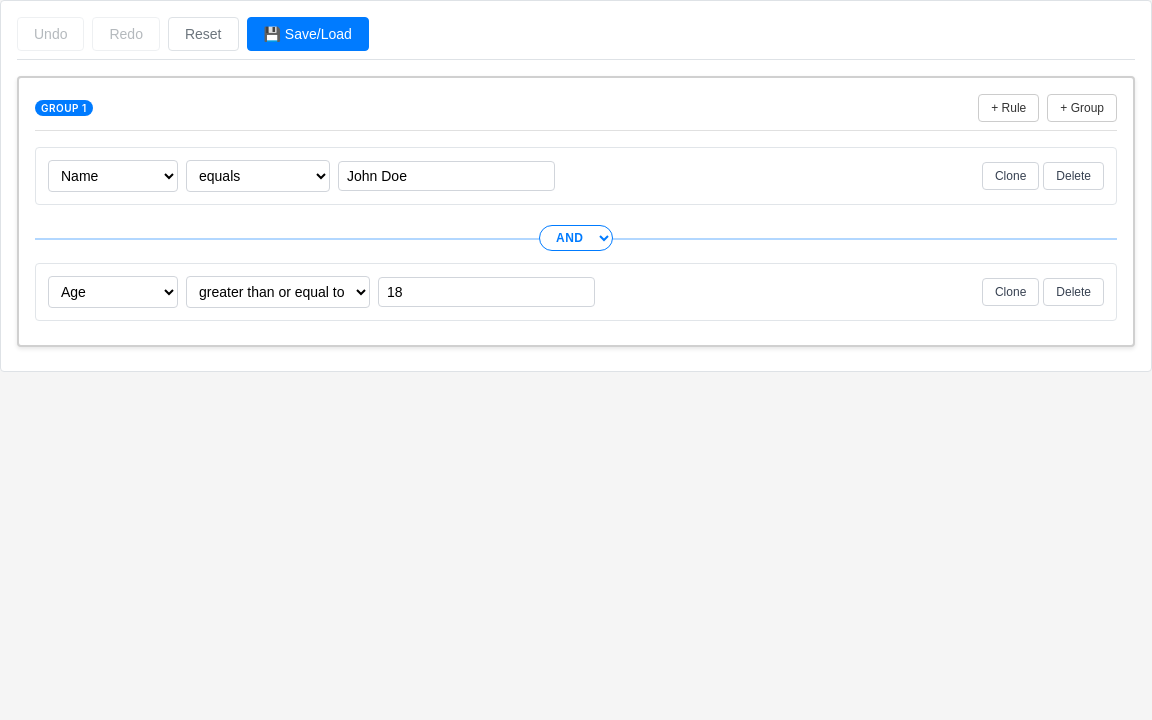
Test: RuleBuilder Integration Tests › Undo/Redo Functionality › handles undo/redo operations correctly
Expected: the button "Undo" is disabled, top-left (17, 17), bottom-right (84, 51)
Expected: the button "Redo" is disabled, top-left (92, 17), bottom-right (160, 51)
# Make a change
Step 1. Click the button "+ Rule" → click(1009, 108), box top-left (978, 94), bottom-right (1039, 122)
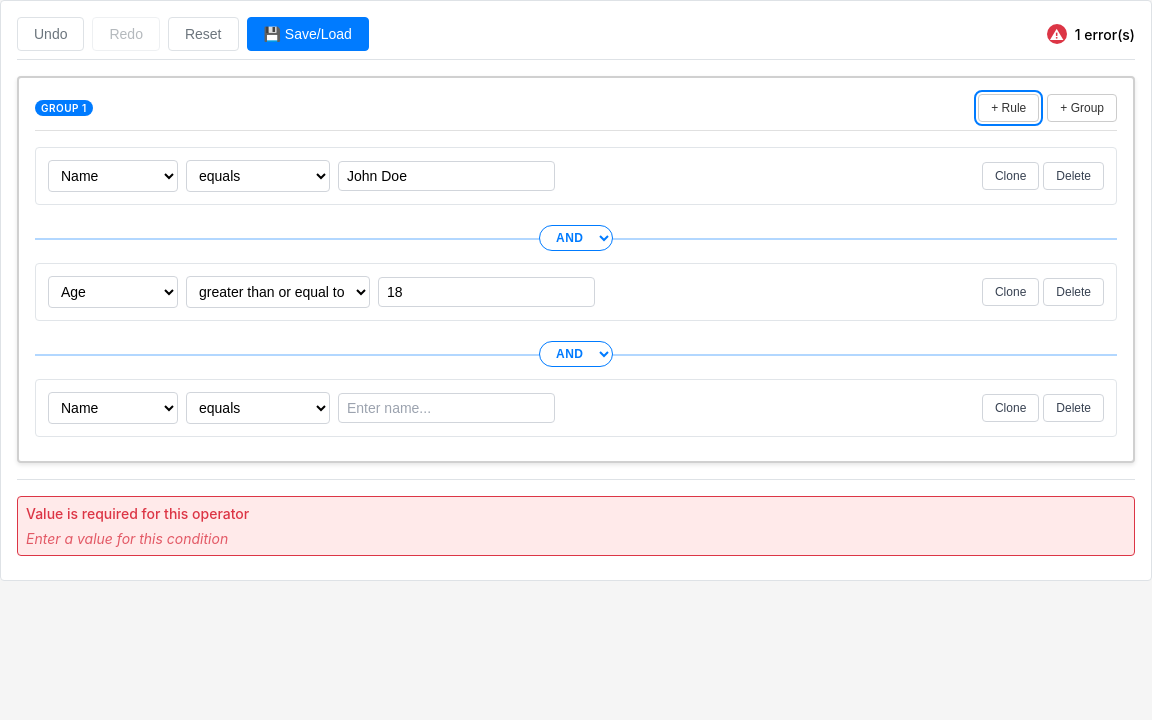
Expected: the button "Redo" is disabled, top-left (92, 17), bottom-right (160, 51)
Result: the button "Undo" is enabled
# Perform undo
Step 2. Click the button "Undo" → click(51, 34), box top-left (17, 17), bottom-right (84, 51)
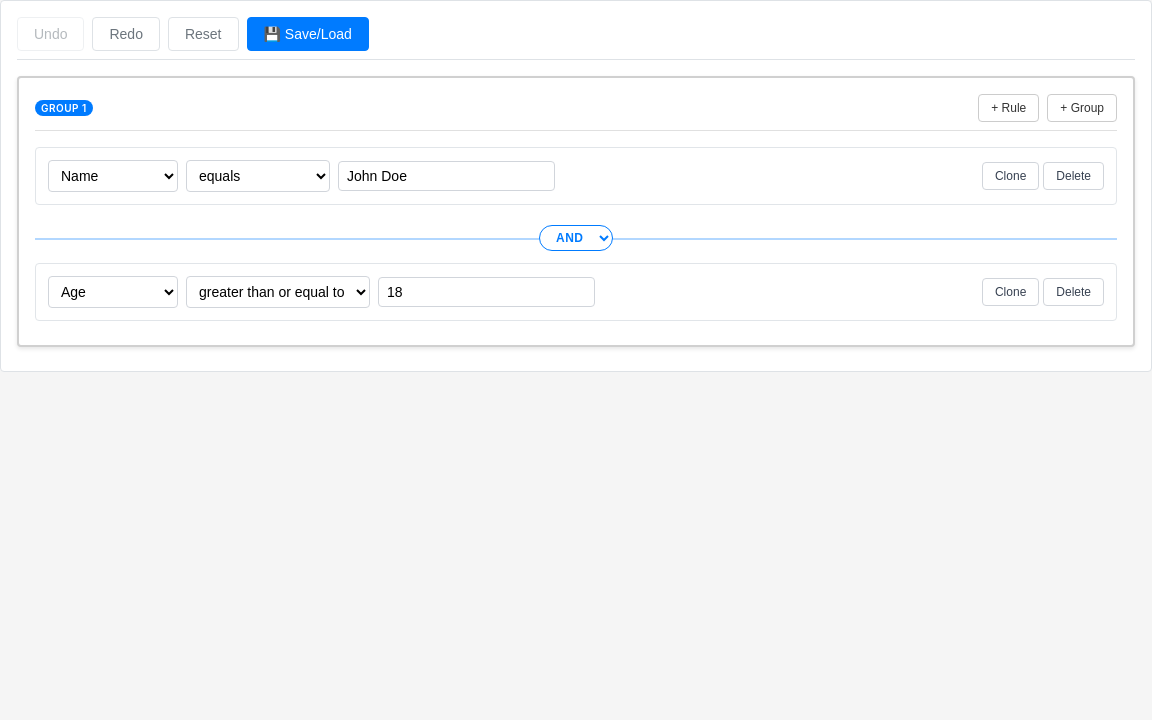
Result: the button "Undo" is disabled at top-left (17, 17), bottom-right (84, 51)
Result: the button "Redo" is enabled at top-left (92, 17), bottom-right (160, 51)
